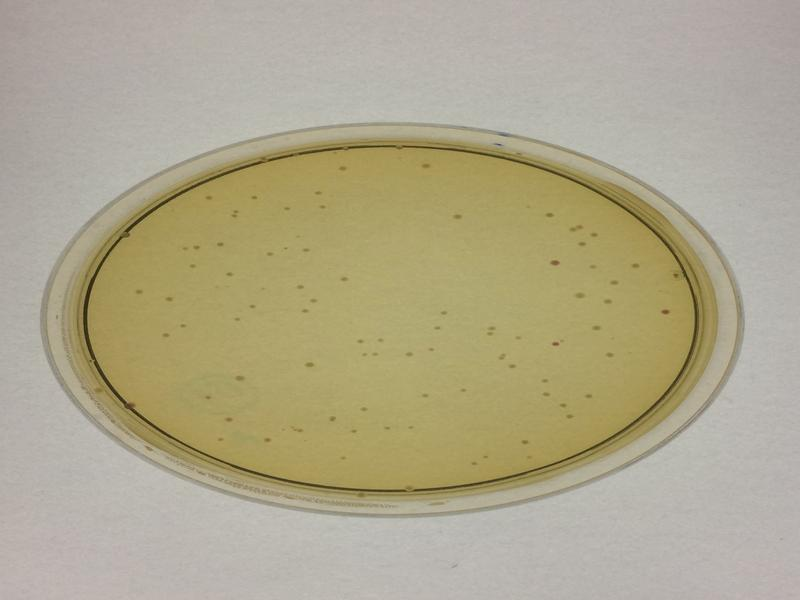colony: (419, 159, 436, 171), (301, 358, 316, 371), (572, 289, 587, 302), (628, 258, 643, 271), (325, 413, 339, 426), (131, 287, 148, 297), (337, 164, 350, 176), (420, 389, 432, 402), (213, 239, 227, 250), (161, 294, 175, 305), (603, 348, 617, 359), (437, 306, 451, 317), (451, 212, 466, 222), (547, 258, 562, 268), (234, 372, 246, 384), (591, 322, 603, 334), (659, 307, 672, 318), (520, 438, 532, 449), (404, 350, 416, 361), (293, 282, 306, 292), (223, 269, 236, 279), (262, 435, 273, 446), (264, 249, 276, 259), (359, 405, 370, 415), (340, 277, 349, 285)
